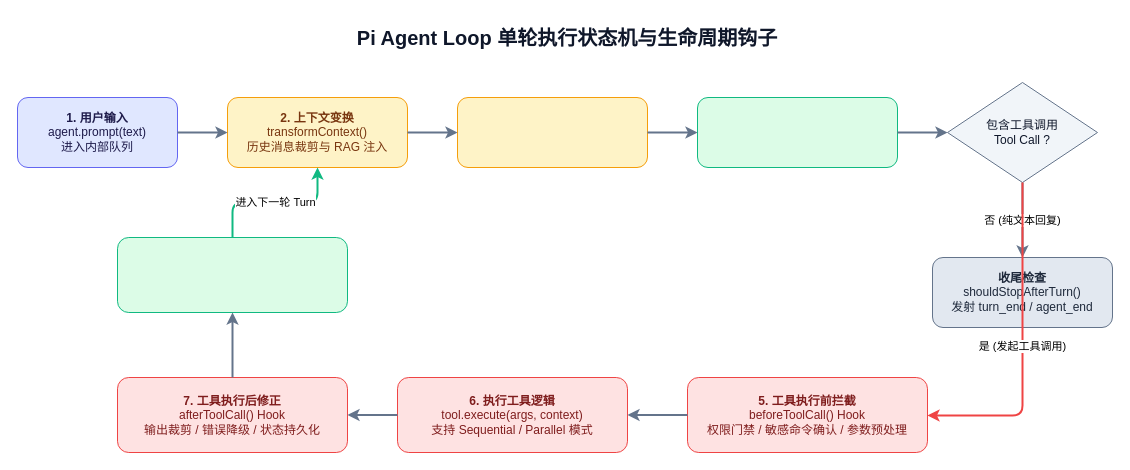
Some shapes in this 1130 by 470 pixel diagram are drawn without their labels. Each missing label, with the centre of its shape:
3. 协议边界转译 convertToLlm() 过滤 UI 消息，生成 Message[]: the point at 552,132
4. 模型流式推理 streamSimple() / stream() 发射 text_delta & thinking_delta: the point at 797,132
8. 追加 ToolResult & 状态更新 将执行结果装载入 AgentContext 准备下一轮推理 (Next Turn): the point at 232,274
